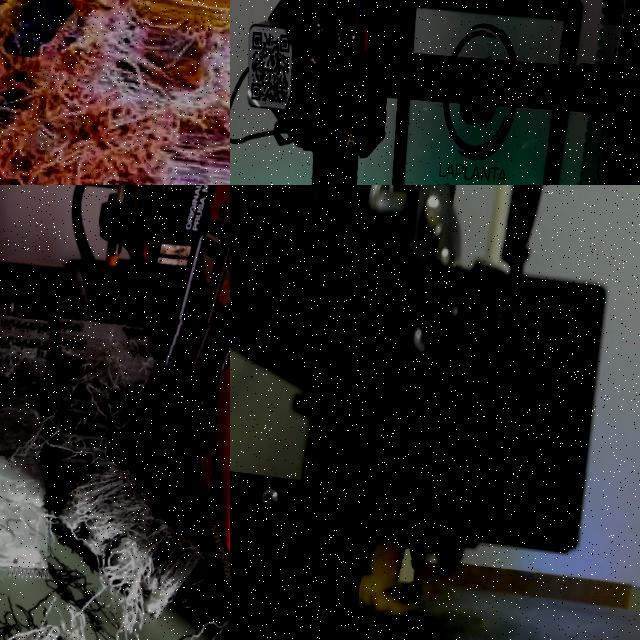spaghetti: (0, 268, 230, 640), (357, 530, 450, 616)
